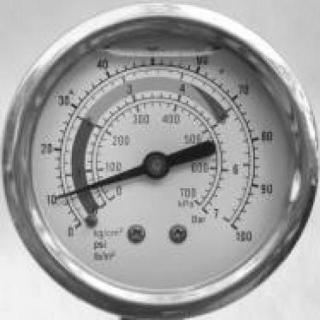gauge: (0, 0, 320, 320), (208, 205, 255, 250), (62, 204, 102, 242), (143, 150, 172, 180), (49, 190, 65, 202)
